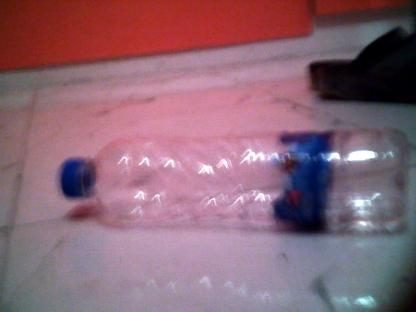Plastic Bottle: (56, 128, 416, 240)
